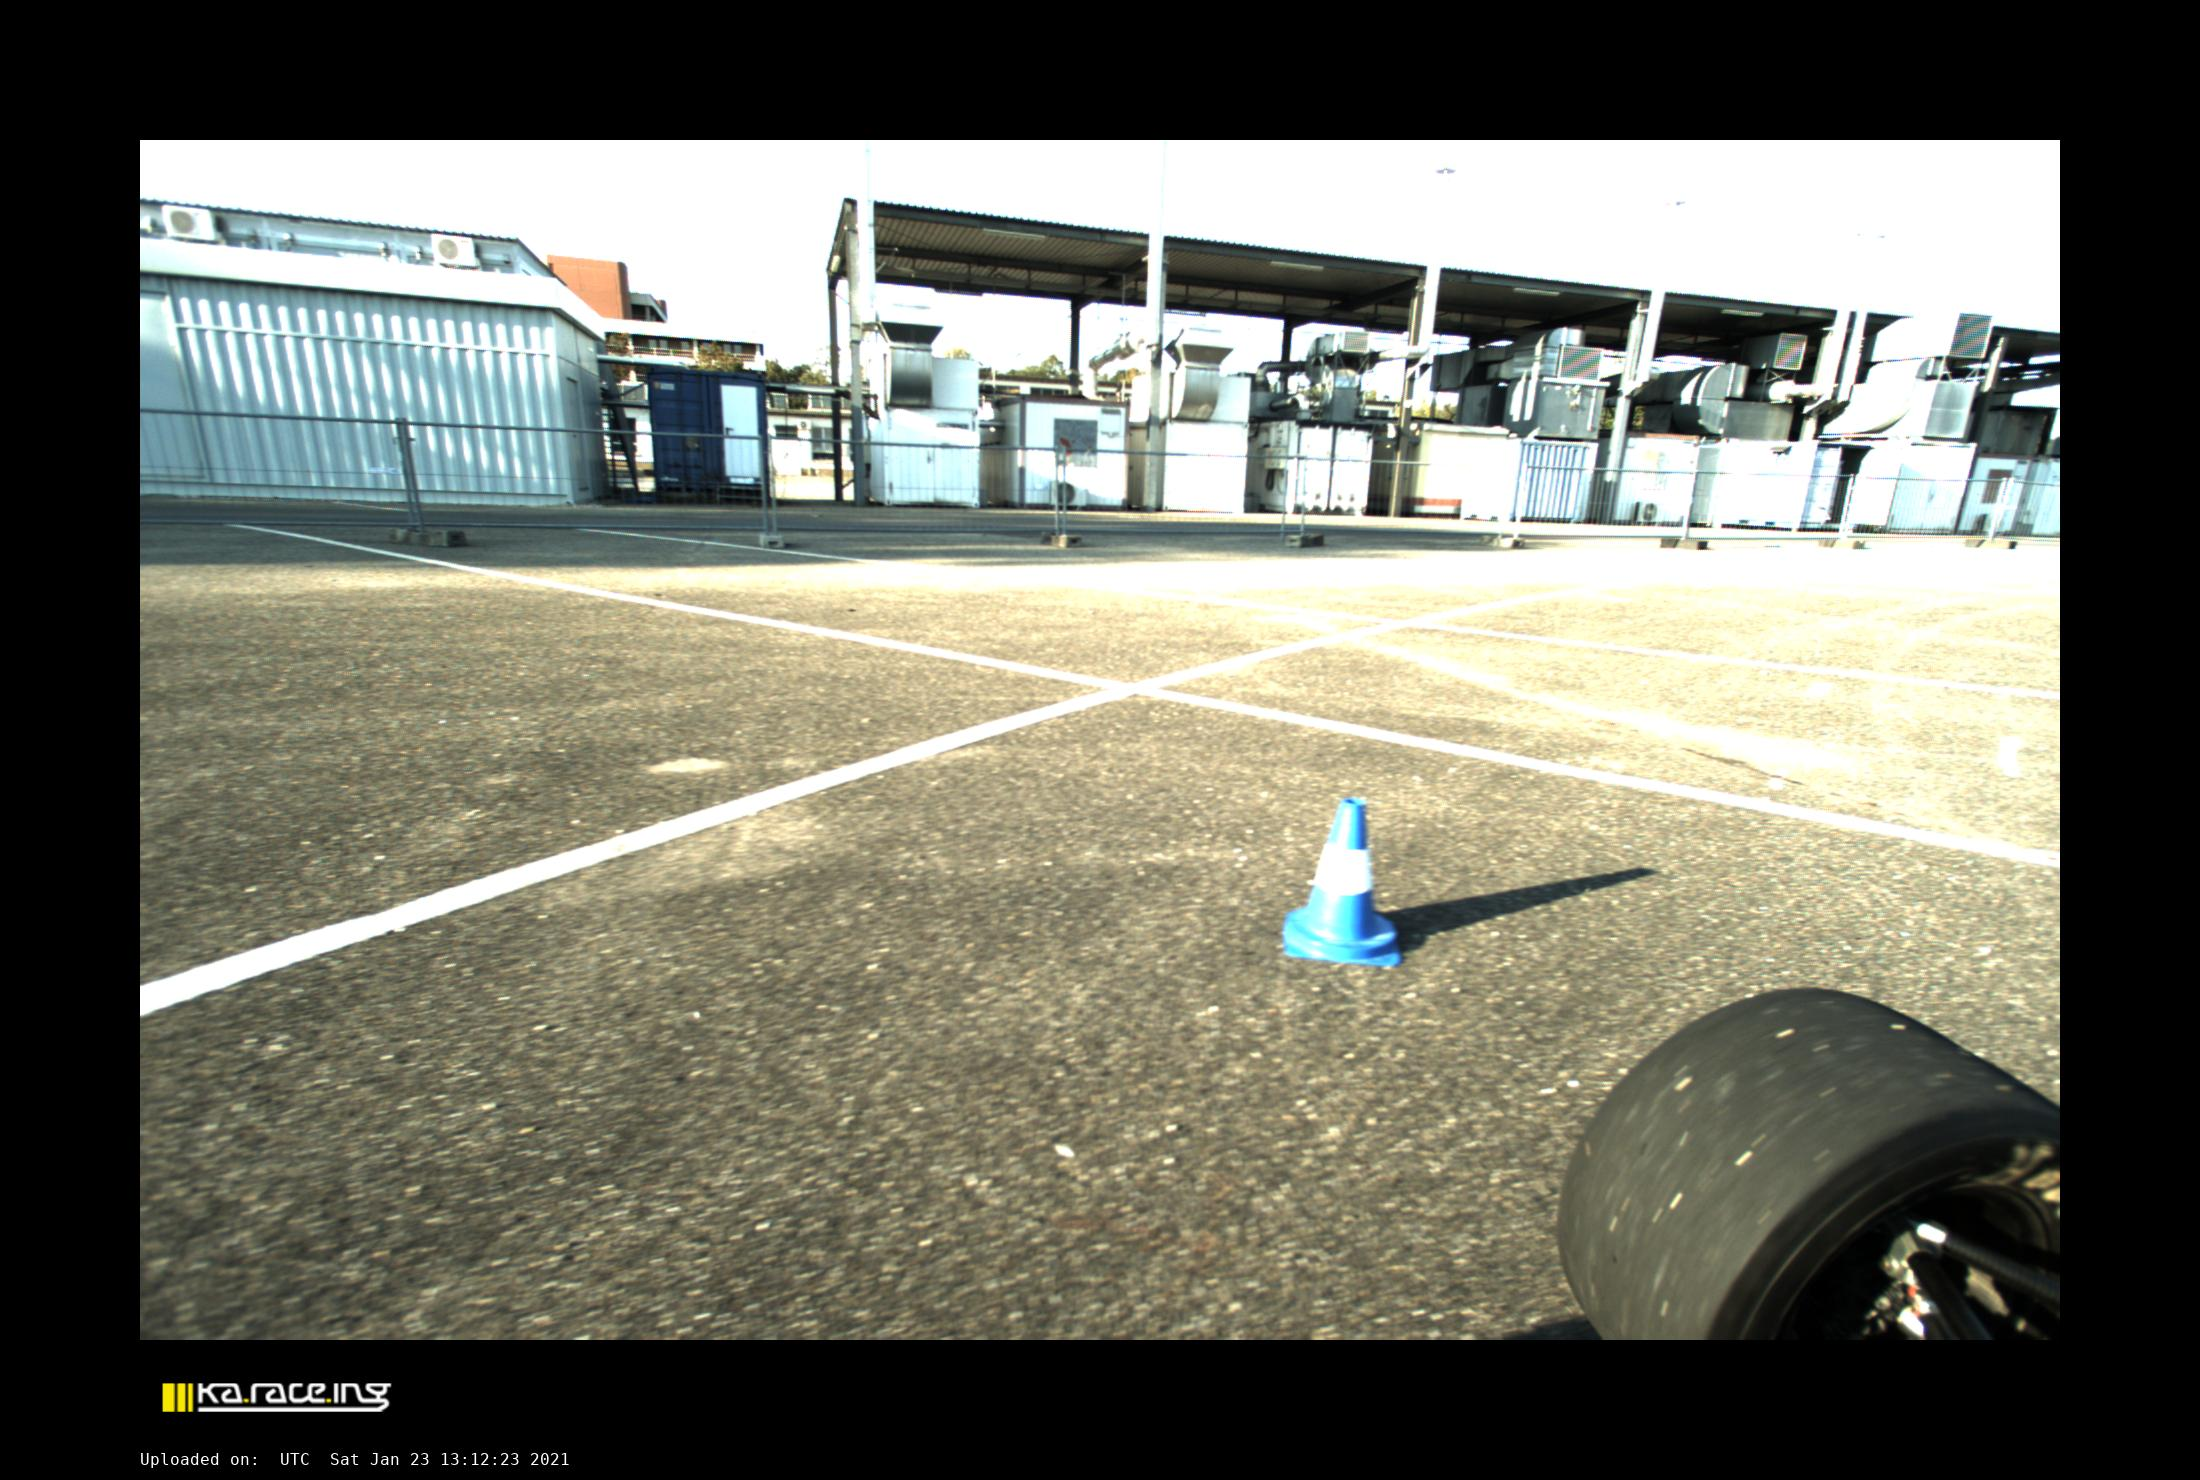blue_cone: (1285, 799, 1401, 965)
